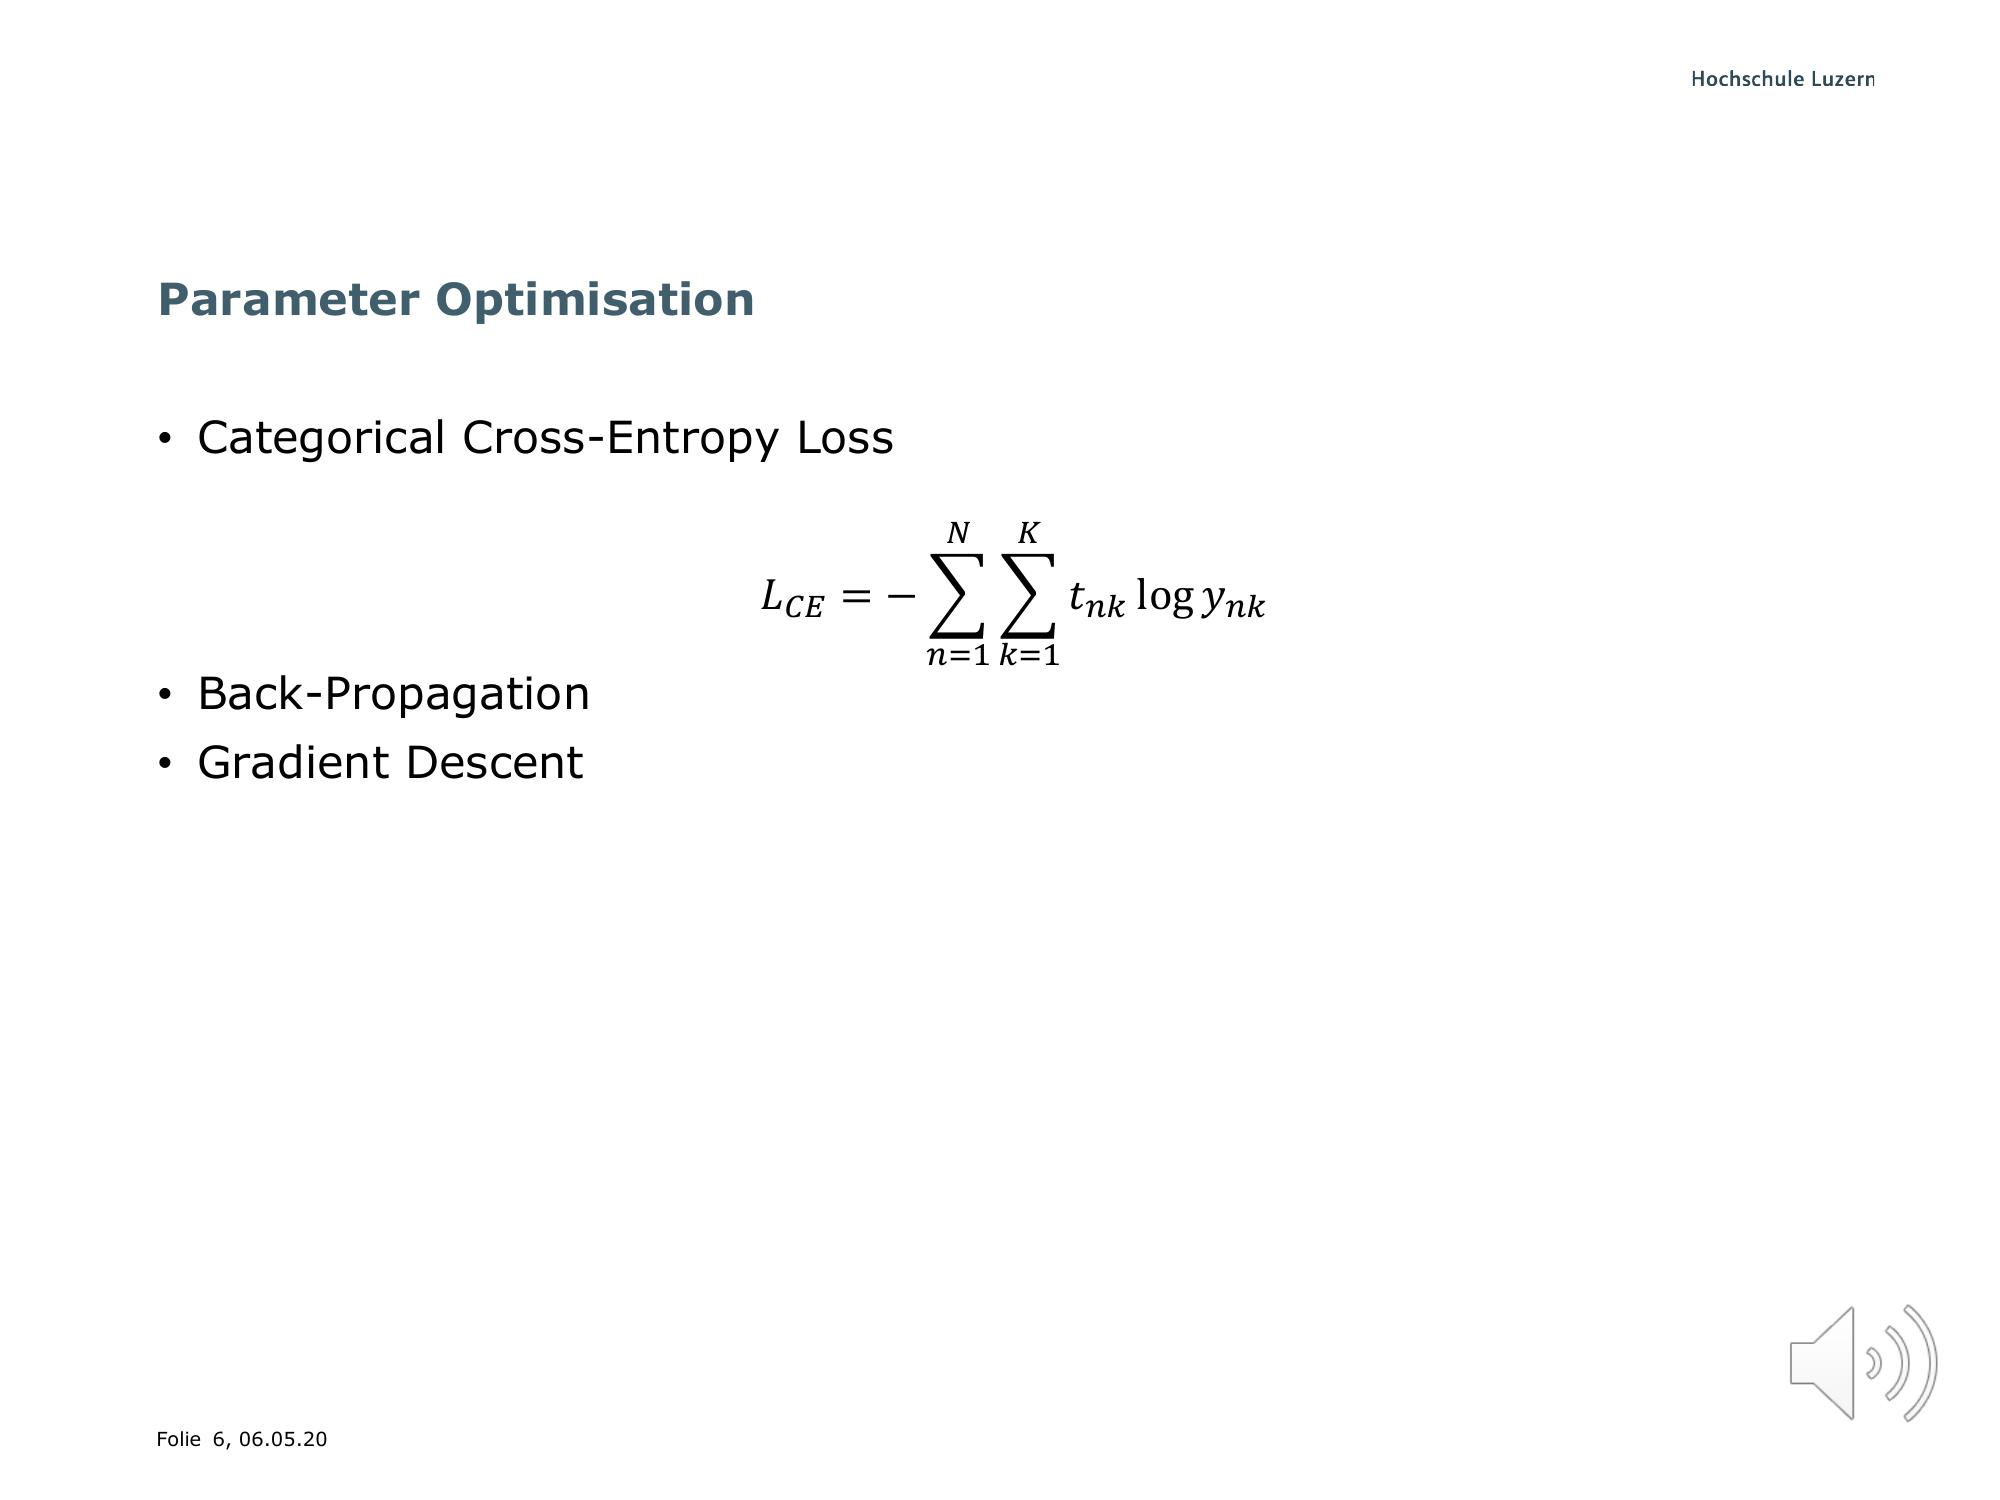Title: (142, 266, 791, 331)
